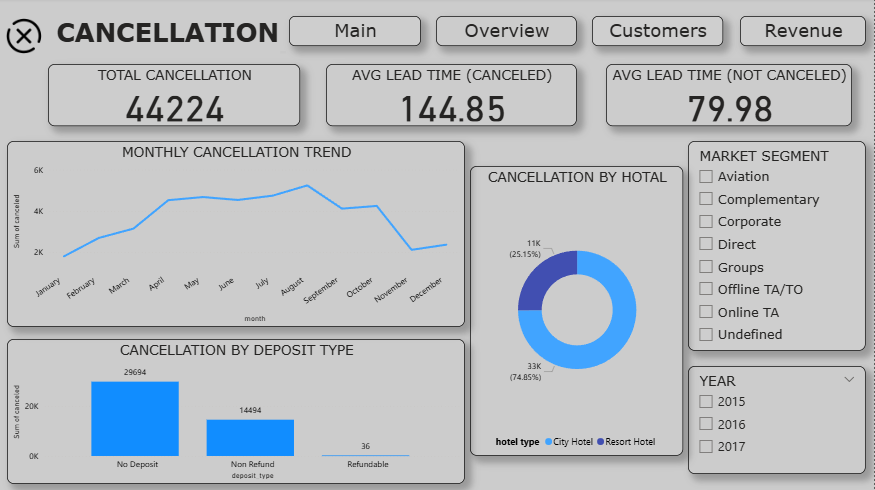

What the dashboard file says about the page in this screenshot:
{"tool":"powerbi","page":{"name":"CANCELLATION","canvas":[1280,720],"ordinal":3},"visuals":[{"type":"actionButton","title":"Overview","box":[638,26.3,206.3,43.9],"z":0},{"type":"actionButton","title":"Revenue","box":[1082.9,26.3,184.4,43.9],"z":1000},{"type":"actionButton","title":"Customers","box":[866.3,26.3,191.7,43.9],"z":2000},{"type":"actionButton","title":"Main","box":[422.9,26.3,193.2,43.9],"z":3000},{"type":"lineChart","title":"MONTHLY CANCELLATION TREND","fields":{"Category":["hotel_bookings.arrival_date_month"],"Y":["Sum(hotel_bookings.canceled)"]},"box":[10.2,209.3,670.2,272.2],"z":4000},{"type":"columnChart","title":"CANCELLATION BY DEPOSIT TYPE","fields":{"Category":["hotel_bookings.deposit_type"],"Y":["Sum(hotel_bookings.canceled)"]},"box":[10.2,499,670.2,212.2],"z":5000},{"type":"donutChart","title":"CANCELLATION BY HOTAL","fields":{"Y":["Sum(hotel_bookings.canceled)"],"Category":["hotel_bookings.hotel type"]},"box":[687.8,245.9,311.7,424.4],"z":6000},{"type":"slicer","fields":{"Values":["hotel_bookings.arrival_date_year"]},"box":[1006.8,538.5,260.5,158],"z":7000},{"type":"slicer","fields":{"Values":["hotel_bookings.market_segment"]},"box":[1006.8,209.3,260.5,307.3],"z":8000},{"type":"card","title":"TOTAL CANCELLATION","fields":{"Values":["hotel_bookings.Total Cancellations"]},"box":[70.2,96.6,368.8,90.7],"z":9000},{"type":"card","title":"AVG LEAD TIME (CANCELED)","fields":{"Values":["hotel_bookings.Average Lead Time (Days)"]},"box":[477.1,96.6,367.3,90.7],"z":10000},{"type":"card","title":"AVG LEAD TIME (NOT CANCELED)","fields":{"Values":["hotel_bookings.Average Lead Time (Not Canceled)"]},"box":[886.8,96.6,360,90.7],"z":11000},{"type":"textbox","title":"CANCELLATION","box":[67.3,26.3,355.6,60],"z":12000},{"type":"image","box":[0,14.6,70.2,82],"z":13000}]}

Visuals, with their boxes in screenshot pixels (x1, y1, x2, y2), scaled from the page's 1280x720 canvas onto the 875x490 screenshot:
"Overview" actionButton: {"x1": 436, "y1": 18, "x2": 577, "y2": 48}
"Revenue" actionButton: {"x1": 740, "y1": 18, "x2": 866, "y2": 48}
"Customers" actionButton: {"x1": 592, "y1": 18, "x2": 723, "y2": 48}
"Main" actionButton: {"x1": 289, "y1": 18, "x2": 421, "y2": 48}
"MONTHLY CANCELLATION TREND" lineChart: {"x1": 7, "y1": 142, "x2": 465, "y2": 328}
"CANCELLATION BY DEPOSIT TYPE" columnChart: {"x1": 7, "y1": 340, "x2": 465, "y2": 484}
"CANCELLATION BY HOTAL" donutChart: {"x1": 470, "y1": 167, "x2": 683, "y2": 456}
slicer - hotel_bookings.arrival_date_year: {"x1": 688, "y1": 366, "x2": 866, "y2": 474}
slicer - hotel_bookings.market_segment: {"x1": 688, "y1": 142, "x2": 866, "y2": 352}
"TOTAL CANCELLATION" card: {"x1": 48, "y1": 66, "x2": 300, "y2": 127}
"AVG LEAD TIME (CANCELED)" card: {"x1": 326, "y1": 66, "x2": 577, "y2": 127}
"AVG LEAD TIME (NOT CANCELED)" card: {"x1": 606, "y1": 66, "x2": 852, "y2": 127}
"CANCELLATION" textbox: {"x1": 46, "y1": 18, "x2": 289, "y2": 59}
image: {"x1": 0, "y1": 10, "x2": 48, "y2": 66}
